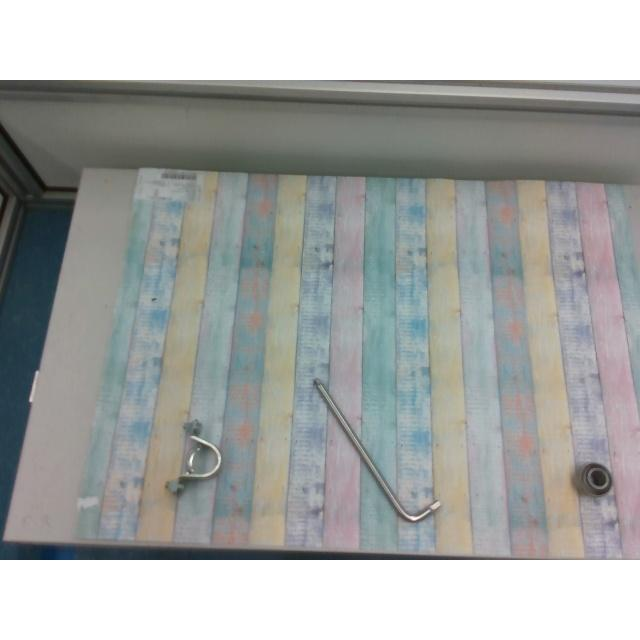AllenKey: (312, 378, 440, 522)
Bearing2: (572, 462, 612, 494)
Housing: (165, 420, 221, 492)
